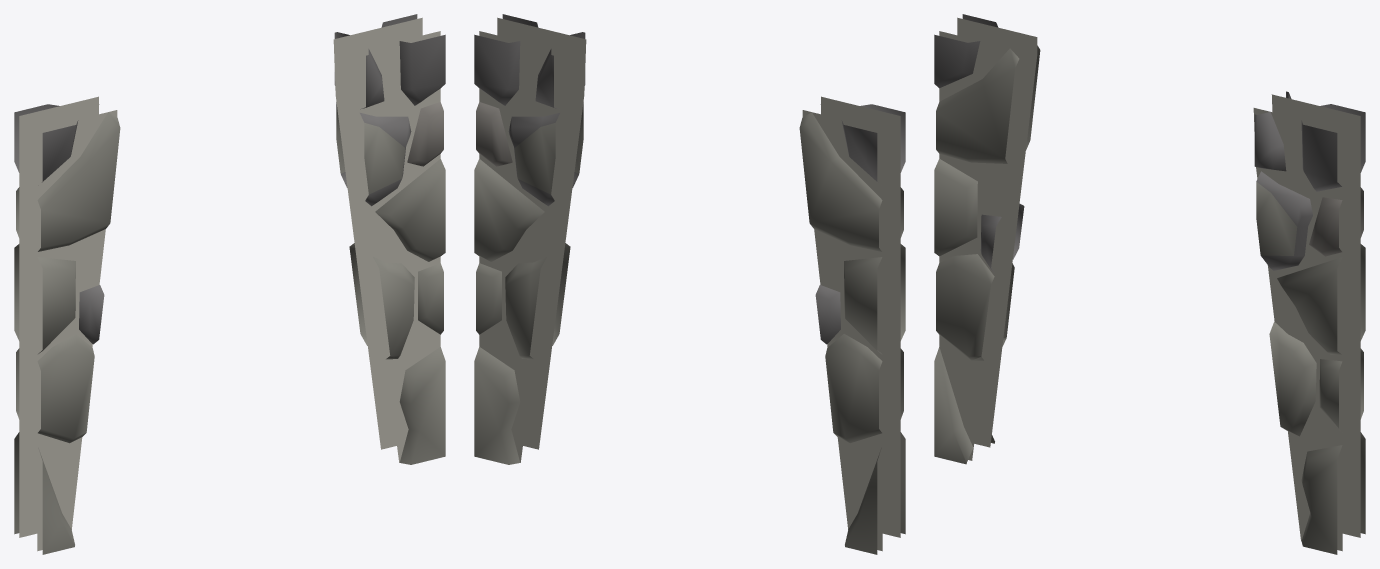
File: rpgpp_ag_wall_04_3x3_door_b.fbx
3 renders of one model, left to right at view 1: azimuth 30°, elevation 25°; view 2: azimuth 150°, elevation 25°; view 3: azimuth 330°, elevation 25°, orthographic.
Visible parts, largest first — view 1: rpgpp_ag_wall_04_3x3_door_b; view 2: rpgpp_ag_wall_04_3x3_door_b; view 3: rpgpp_ag_wall_04_3x3_door_b.
Part boxes in pixels (<box>): rpgpp_ag_wall_04_3x3_door_b: <box>14,14,445,554</box>; rpgpp_ag_wall_04_3x3_door_b: <box>474,14,905,554</box>; rpgpp_ag_wall_04_3x3_door_b: <box>934,14,1365,554</box>.
Bounding box in the file's own units: 3 × 3 × 0.404.
